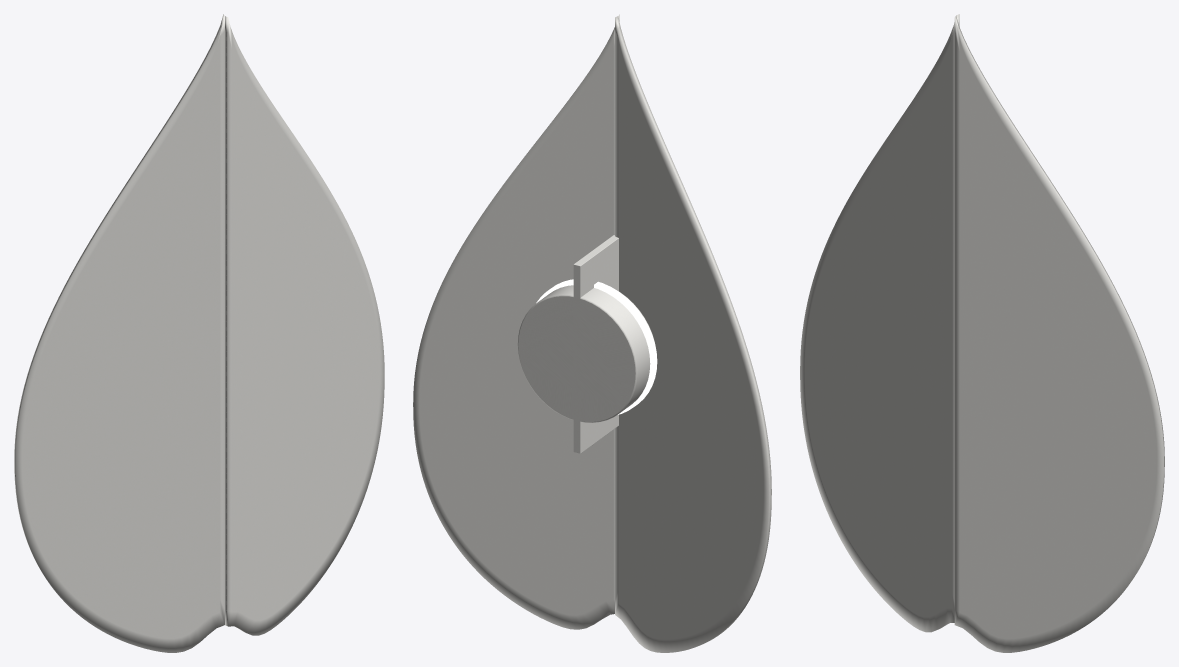
The model's file is leaf-shaped-wall-sconce-warm-white-up-and-down-light.glb.
3 renders of one model, left to right at view 1: azimuth 30°, elevation 25°; view 2: azimuth 150°, elevation 25°; view 3: azimuth 330°, elevation 25°, orthographic.
Parts seen in each view (by area): view 1: LeafLeft, LeafRight; view 2: LeafRight, LeafLeft, MountPuck, VeinRib, HaloLed; view 3: LeafRight, LeafLeft.
Part boxes in pixels (box(x1,y1,x2,y2)): LeafLeft: box(14, 14, 224, 652); LeafRight: box(225, 16, 384, 635); LeafRight: box(413, 14, 619, 629); LeafLeft: box(615, 16, 771, 652); MountPuck: box(517, 285, 654, 422); VeinRib: box(573, 235, 618, 453); HaloLed: box(536, 279, 657, 414); LeafRight: box(954, 15, 1164, 652); LeafLeft: box(800, 14, 959, 632).
Size of the model in its own units: 0.1528 by 0.2513 by 0.0322.
2 materials, 1 textured.
